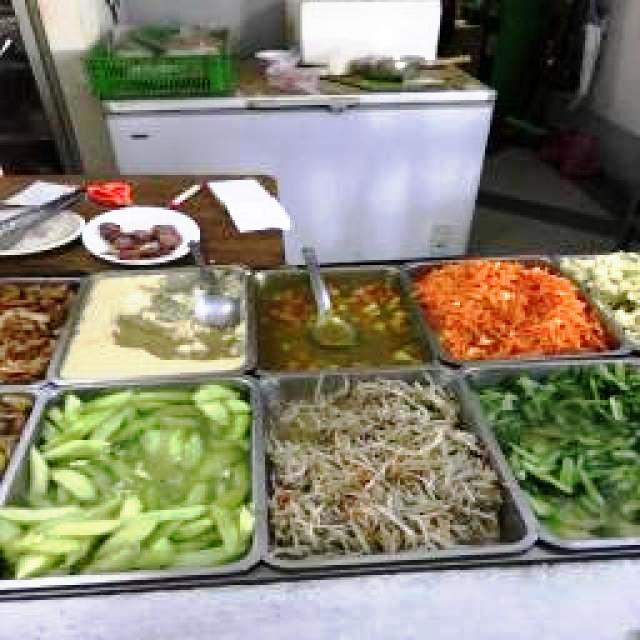carrot_eggs: (412, 257, 610, 363)
mung_bean_sprouts: (264, 375, 503, 561)
